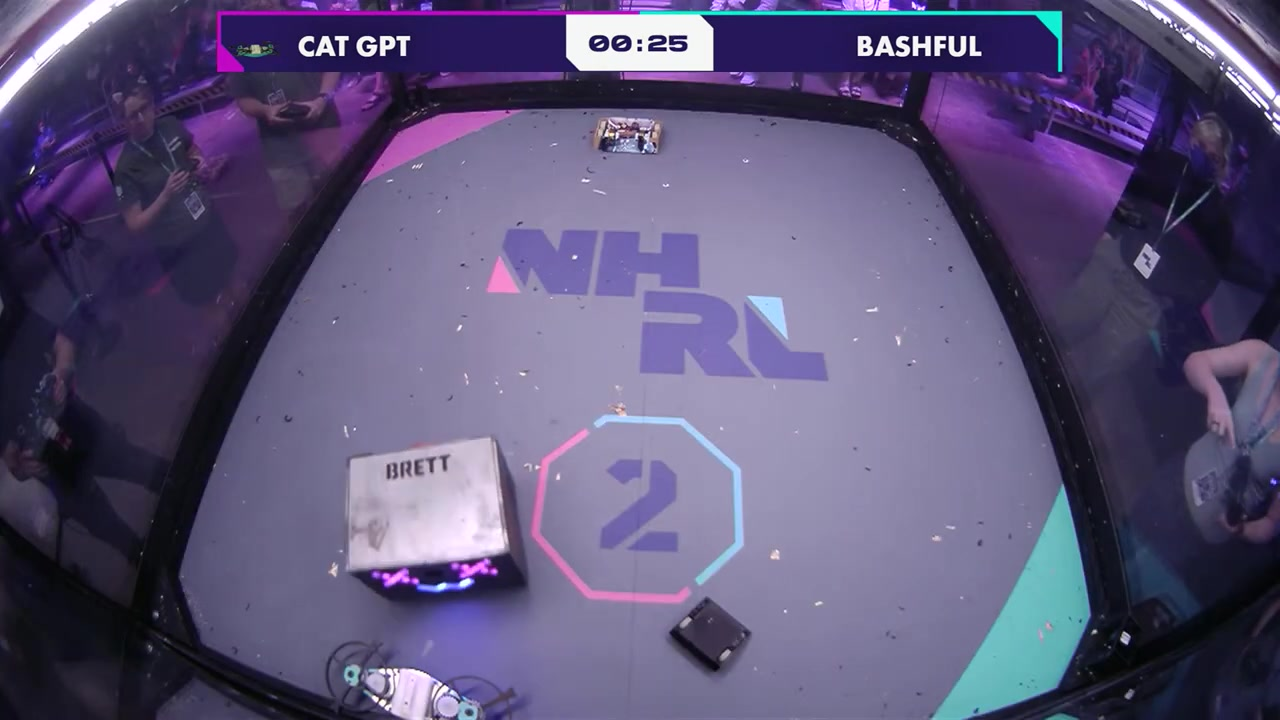combatbot: (327, 636, 523, 719), (592, 119, 665, 157)
housebot: (347, 435, 528, 599)
minibot: (664, 596, 755, 678)
